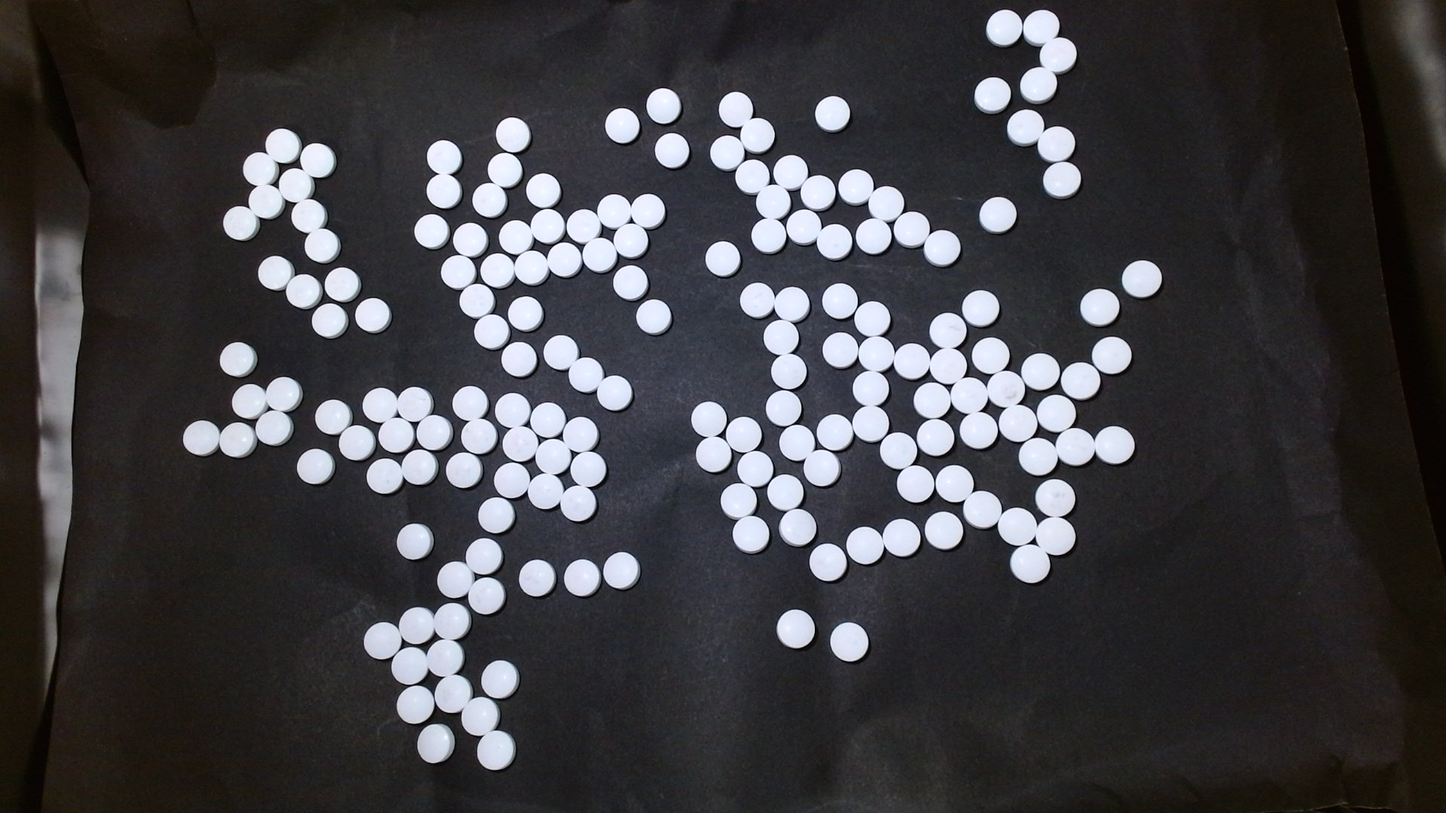Circle: (1094, 425, 1136, 465), (1034, 516, 1076, 556), (776, 608, 816, 650), (476, 729, 516, 771), (1035, 478, 1075, 519), (1017, 437, 1058, 477), (1121, 258, 1162, 298), (829, 621, 868, 663), (1055, 427, 1095, 467), (395, 684, 435, 724), (1011, 544, 1051, 584), (1091, 336, 1132, 375), (962, 489, 1001, 530), (1078, 287, 1119, 326), (416, 723, 454, 765), (731, 515, 770, 555), (896, 464, 935, 504), (1060, 361, 1100, 400), (924, 510, 963, 550), (999, 403, 1038, 443), (1037, 393, 1076, 433), (996, 507, 1036, 546), (1020, 352, 1060, 391), (460, 696, 499, 736), (935, 464, 974, 503), (959, 411, 998, 450), (779, 508, 818, 547), (426, 638, 465, 677), (295, 447, 334, 486), (810, 542, 848, 582), (915, 418, 953, 458), (434, 674, 472, 714), (1042, 161, 1081, 199), (432, 601, 470, 640), (362, 621, 400, 660), (961, 288, 999, 327), (391, 646, 429, 685), (929, 346, 967, 385), (950, 376, 988, 415), (480, 659, 518, 698), (971, 336, 1010, 374), (472, 313, 510, 351), (635, 298, 673, 336), (979, 196, 1017, 234), (395, 522, 433, 560), (986, 370, 1024, 408), (929, 311, 967, 349), (596, 374, 633, 413), (880, 431, 917, 470), (602, 551, 639, 590), (816, 413, 853, 452), (923, 229, 961, 266), (720, 482, 758, 519), (1037, 124, 1075, 161), (694, 436, 732, 473), (413, 212, 450, 250), (477, 496, 514, 534), (436, 560, 473, 598), (255, 410, 293, 447), (468, 576, 505, 614), (892, 210, 929, 248), (569, 450, 606, 488), (974, 76, 1011, 114), (882, 518, 919, 556), (182, 419, 220, 456), (913, 381, 950, 419), (853, 300, 891, 337), (857, 335, 895, 372), (892, 342, 930, 379), (313, 398, 352, 434), (353, 297, 392, 333), (847, 526, 883, 565), (1006, 108, 1043, 145), (230, 382, 267, 419), (445, 452, 482, 489), (738, 281, 775, 318), (690, 400, 727, 437), (401, 449, 438, 486), (1020, 65, 1057, 102), (518, 559, 555, 596), (766, 390, 803, 427), (529, 400, 566, 437), (770, 352, 807, 389), (985, 9, 1022, 46), (398, 606, 434, 644), (821, 332, 859, 368), (527, 472, 563, 510), (1039, 37, 1077, 73), (853, 403, 889, 441), (218, 341, 256, 377), (654, 132, 690, 169), (465, 537, 501, 574), (471, 181, 507, 218), (218, 422, 255, 458), (855, 218, 891, 255), (416, 414, 453, 450), (493, 461, 529, 498), (563, 559, 599, 596), (378, 416, 414, 453), (767, 473, 803, 510), (737, 450, 773, 487), (804, 450, 840, 487), (542, 333, 578, 370), (718, 90, 754, 127), (853, 370, 889, 407), (534, 437, 570, 474), (494, 391, 530, 428), (452, 385, 488, 422), (773, 285, 810, 321), (814, 95, 850, 132), (1022, 8, 1059, 44), (298, 142, 336, 177), (285, 273, 321, 309), (311, 302, 347, 338), (304, 227, 340, 263), (324, 266, 360, 302), (365, 457, 401, 493), (258, 254, 294, 290), (500, 340, 536, 376), (222, 205, 258, 241), (560, 486, 596, 522), (763, 318, 799, 354), (460, 418, 496, 454), (440, 254, 476, 290), (725, 416, 761, 452), (779, 424, 815, 460), (837, 169, 873, 205), (822, 282, 858, 318), (396, 385, 432, 421), (265, 376, 301, 412), (502, 426, 538, 462), (494, 116, 530, 152), (751, 217, 786, 254), (740, 117, 775, 154), (247, 184, 284, 219), (704, 240, 739, 277), (290, 198, 327, 233), (426, 173, 461, 209), (508, 295, 543, 331), (613, 263, 648, 299), (816, 223, 851, 259), (487, 151, 522, 187), (513, 249, 548, 285), (362, 386, 397, 422), (459, 282, 494, 318), (452, 221, 487, 257), (772, 154, 807, 190), (630, 193, 665, 229), (869, 184, 904, 220), (264, 127, 300, 162), (278, 167, 313, 202), (734, 158, 769, 193), (613, 222, 648, 257), (755, 184, 790, 219), (529, 209, 564, 244), (426, 139, 461, 174), (545, 241, 580, 276), (596, 193, 631, 228), (338, 425, 374, 459), (563, 416, 597, 452), (526, 172, 560, 208), (480, 252, 514, 288), (786, 209, 820, 245), (800, 174, 834, 210), (646, 87, 680, 123), (709, 135, 743, 170), (605, 108, 639, 143), (243, 151, 278, 185), (499, 218, 532, 254), (567, 358, 601, 392), (582, 237, 615, 272), (566, 209, 599, 242)
